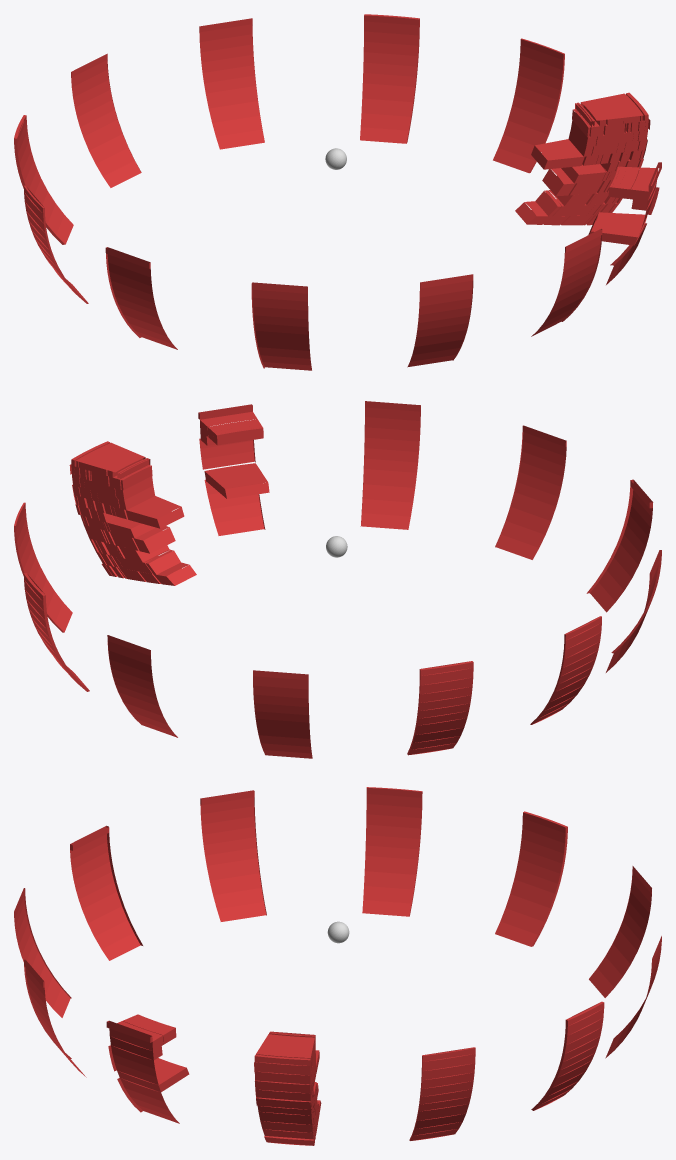
The picture shows the model from 3 angles, top to bottom: view 1: azimuth 30°, elevation 25°; view 2: azimuth 150°, elevation 25°; view 3: azimuth 270°, elevation 25°; orthographic projection.
Parts seen in each view (by area): view 1: world; view 2: world; view 3: world.
Boxes of the visible parts, <box> form: world: <box>14,14,661,370</box>; world: <box>14,401,661,758</box>; world: <box>14,787,661,1145</box>.
Bounding box in the file's own units: 600 × 108 × 599.
